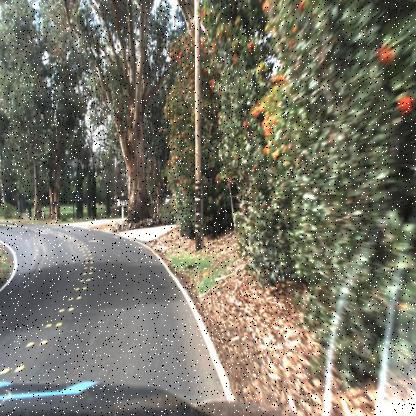car: (167, 194, 181, 219)
